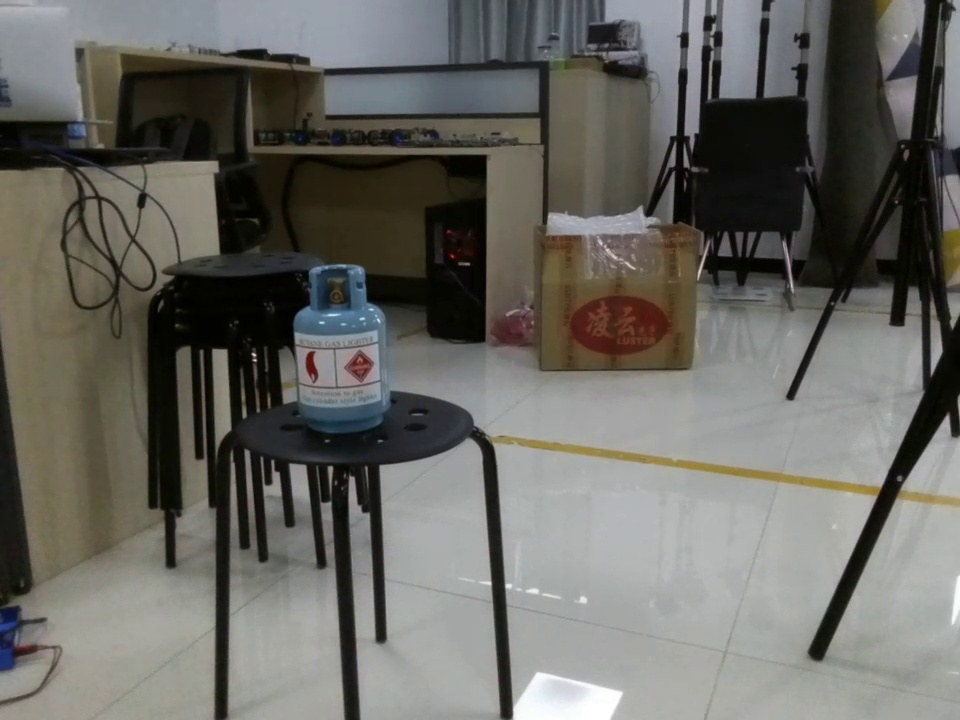gas tank: (283, 259, 399, 439)
